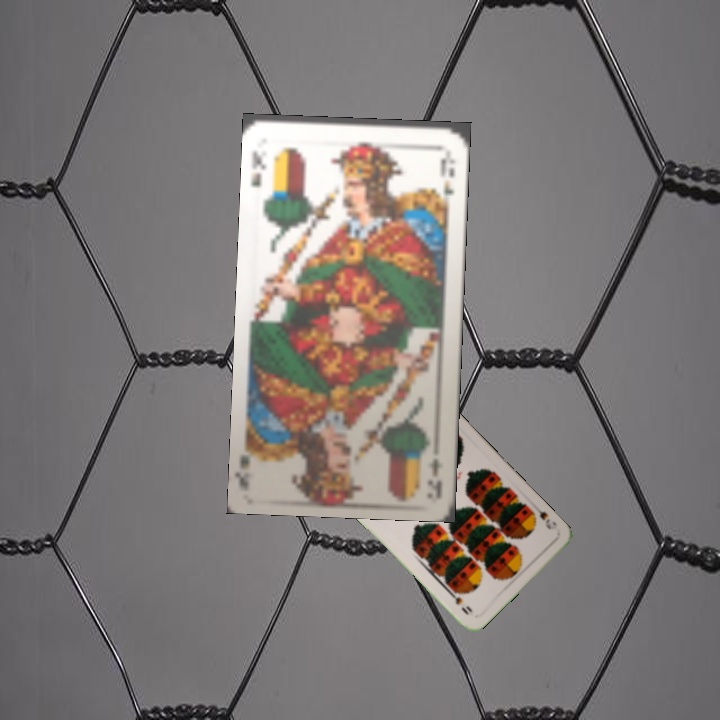EK: (248, 146, 270, 190), (423, 454, 445, 495)
S9: (526, 500, 559, 532)
